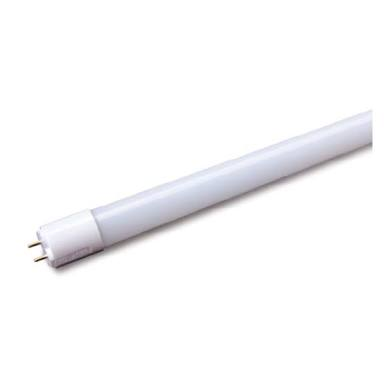Light_bulb: (24, 109, 372, 279)
